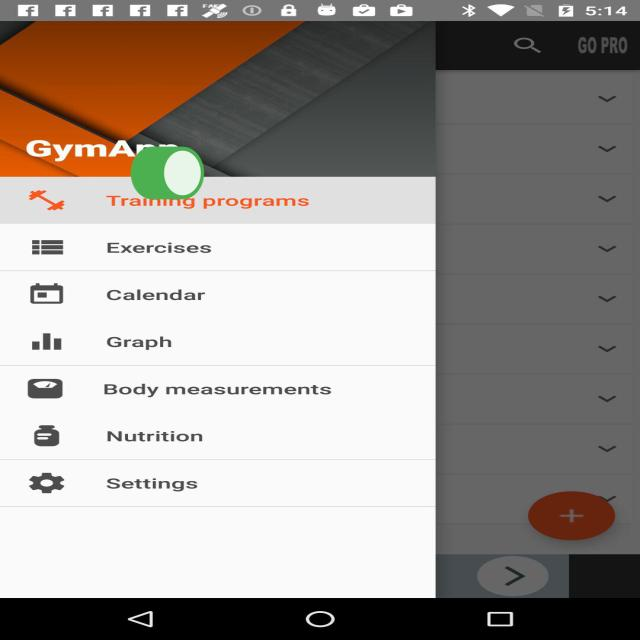social proof: (128, 126, 208, 224)
